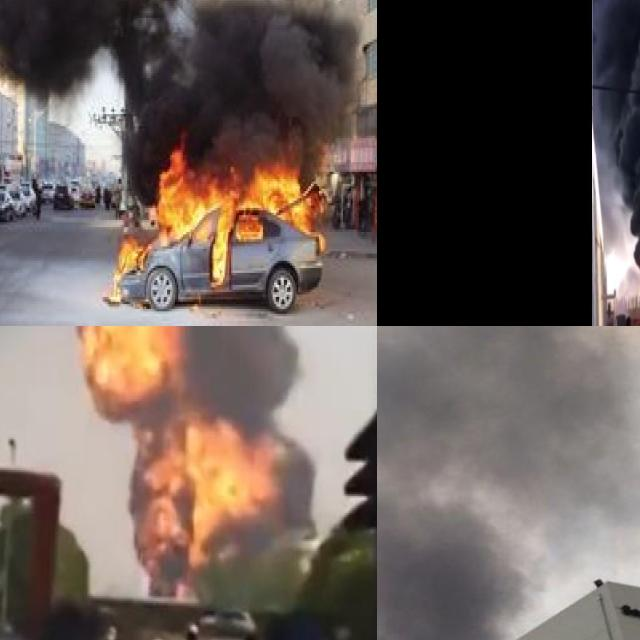fire: (110, 138, 330, 299), (124, 408, 292, 573), (75, 326, 179, 390)
smoke: (42, 326, 317, 572), (0, 0, 356, 182), (377, 326, 640, 402), (377, 514, 521, 640), (589, 0, 640, 243)
